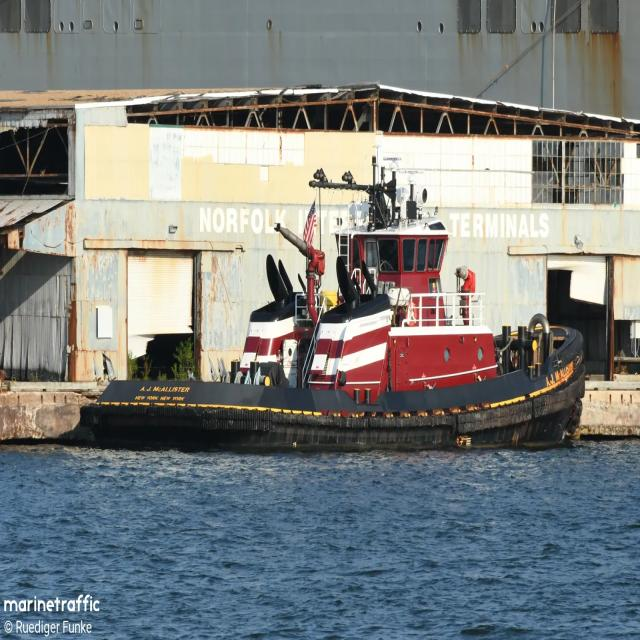Tug: (81, 168, 585, 450)
